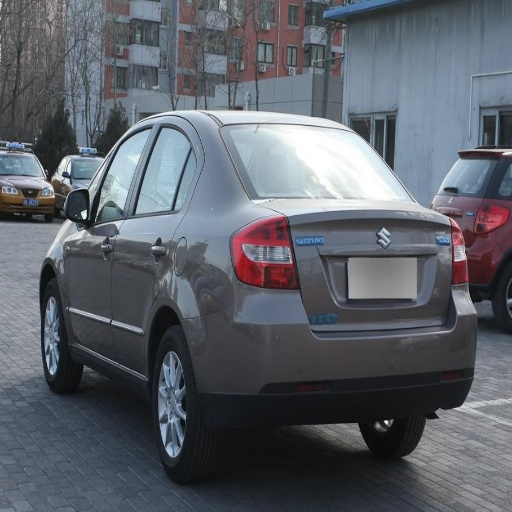back_bumper: (192, 283, 475, 439)
back_glass: (223, 124, 402, 196)
back_left_door: (114, 118, 200, 370)
